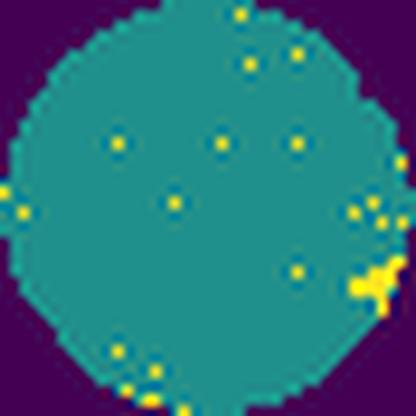Edge-Loc: (343, 251, 411, 318)
